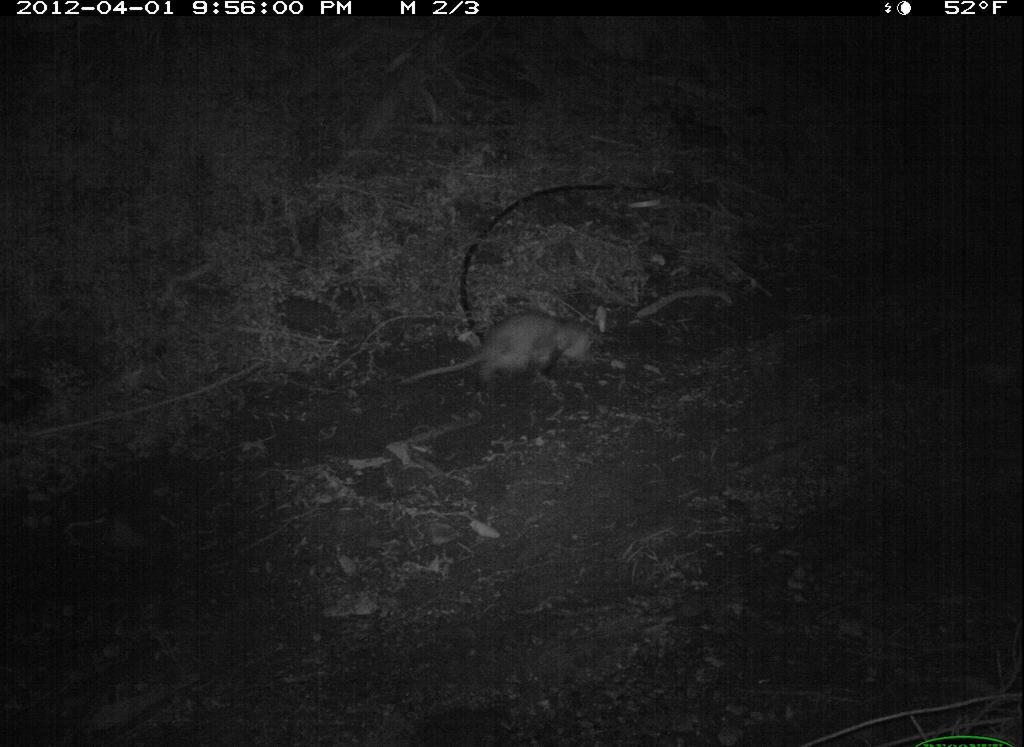opossum: (397, 301, 601, 408)
